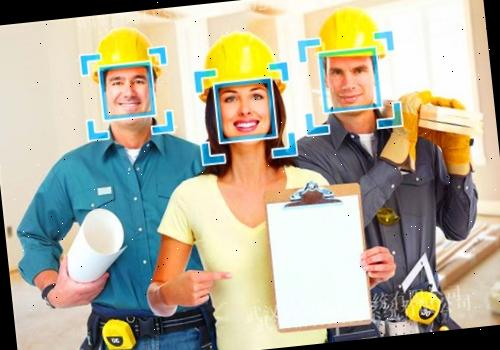helmet: (200, 28, 292, 94), (310, 2, 394, 66), (91, 22, 171, 80)
no_wear: (52, 134, 212, 324), (177, 166, 339, 350), (303, 122, 453, 316)
